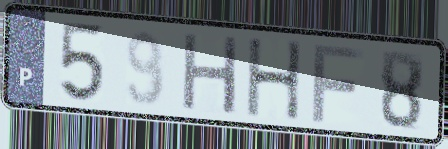5: (59, 19, 106, 104)
8: (377, 48, 427, 133)
9: (124, 27, 170, 109)
F: (309, 40, 368, 125)
H: (179, 28, 242, 117), (245, 36, 305, 123)
